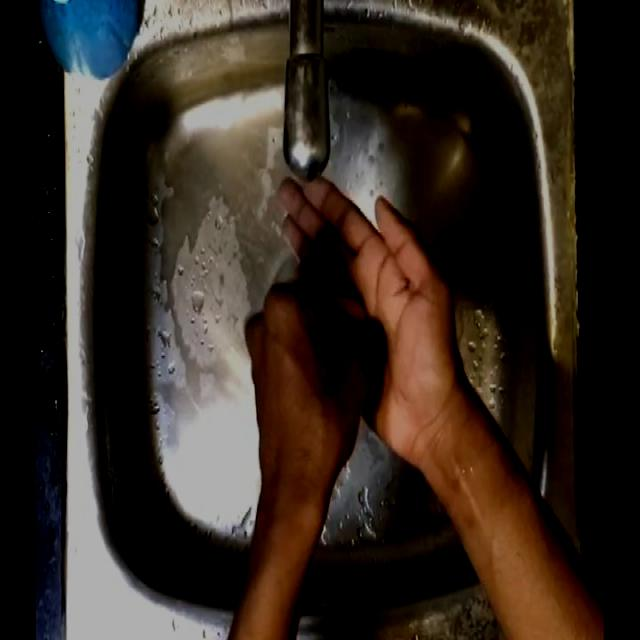step_6: (237, 169, 458, 481)
